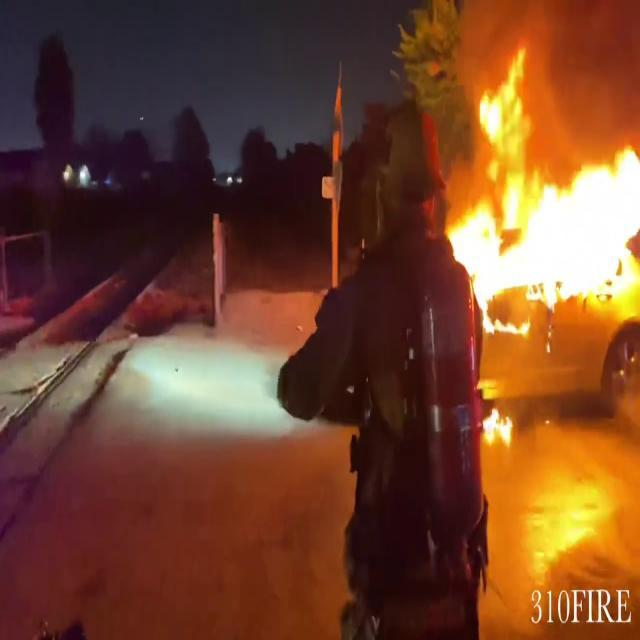Fire: (444, 44, 640, 314)
